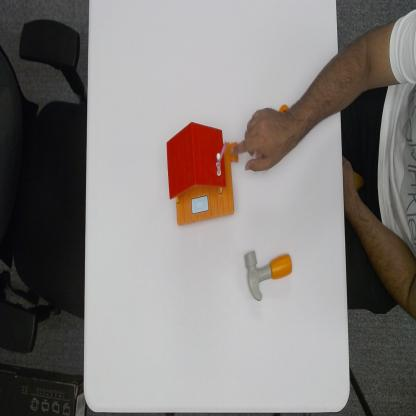Arm: (292, 58, 340, 140)
Hammer: (244, 246, 293, 304)
Hand: (229, 107, 293, 176)
House: (164, 120, 238, 227)
Screwdriver: (280, 101, 289, 114)
